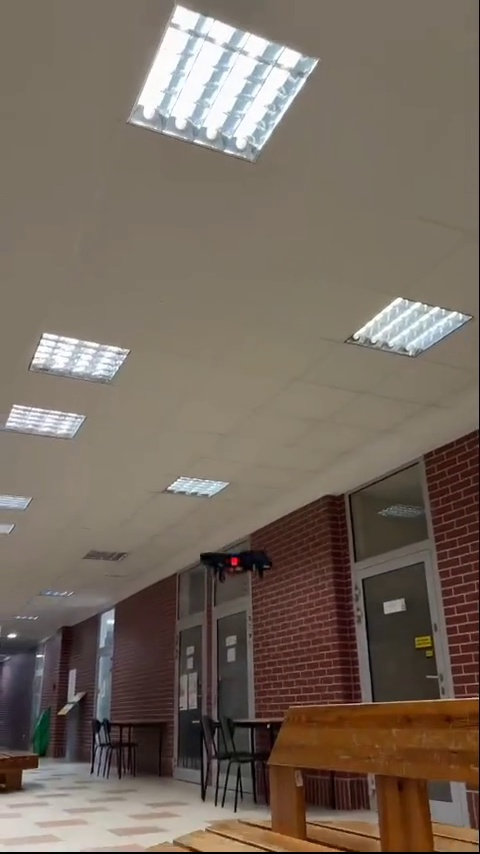drone: (200, 542, 271, 583)
